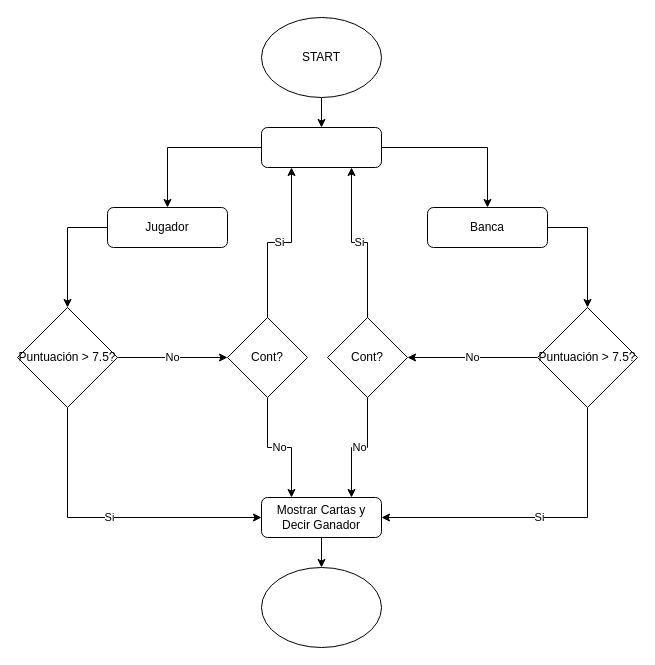
The diagram is 655 pixels wide and 665 high, and some of its shapes have lost their labels. Here are the shapes that lost their labels. From the top down, the box of each, then its label:
(260, 126, 382, 168): Repartir Cartas
(260, 566, 382, 648): END
